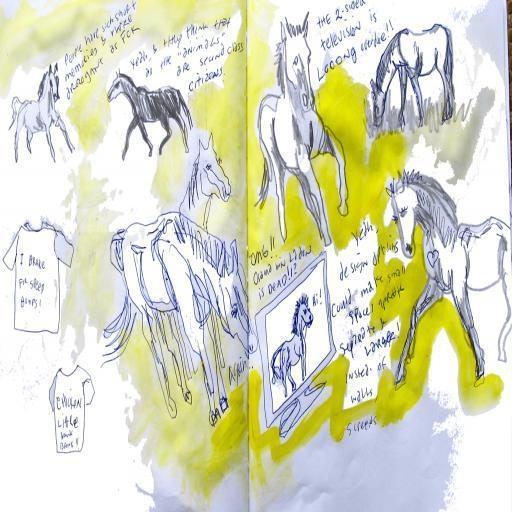horse: (98, 131, 232, 416), (98, 210, 257, 424), (386, 166, 512, 388), (252, 8, 349, 246), (370, 17, 454, 125), (106, 65, 193, 162), (4, 60, 74, 165), (270, 298, 314, 398)
